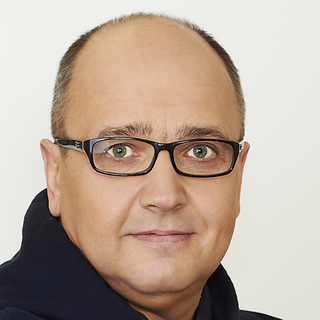eye: (103, 140, 142, 165), (184, 140, 224, 164)
